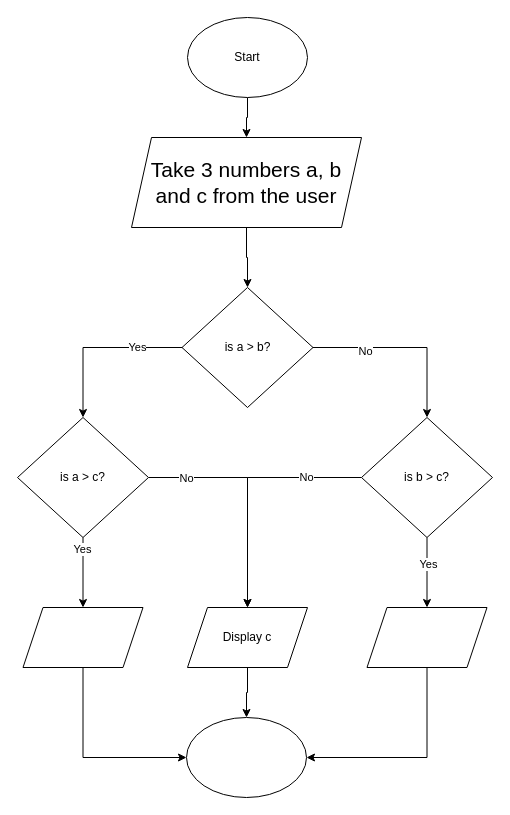
Some shapes in this 510 by 815 pixel diagram are drawn without their labels. The shapes that lost their labels are listed below. From the top down, each one's centre as x and y in pixels, then its label:
pixel 82 637: Display a is highest
pixel 426 637: Display b
pixel 246 757: Stop
